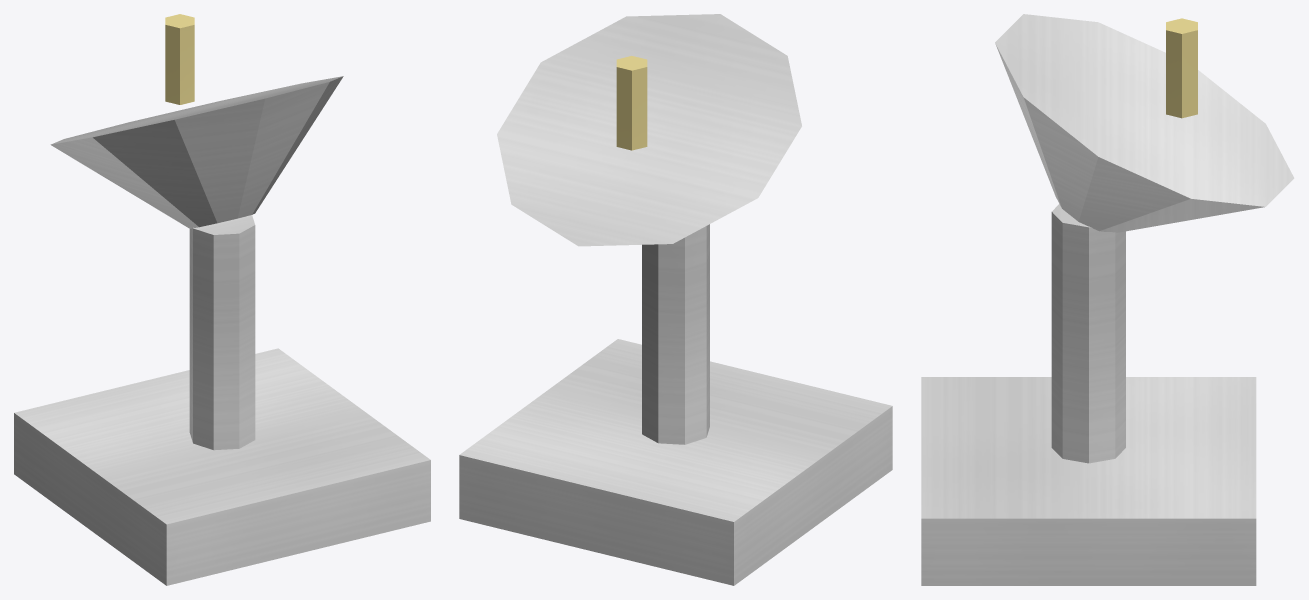
File: ship_sensor.obj
The picture shows the model from 3 angles, left to right: view 1: azimuth 30°, elevation 25°; view 2: azimuth 150°, elevation 25°; view 3: azimuth 270°, elevation 25°; orthographic projection. The views are drawn at different scales.
Visible parts, largest first — view 1: ship_sensor; view 2: ship_sensor; view 3: ship_sensor.
Part boxes in pixels (x1,y1,x2,y2): ship_sensor: [14, 14, 430, 585]; ship_sensor: [459, 14, 892, 585]; ship_sensor: [921, 14, 1294, 585].
Size of the model in its own units: 0.9 by 1.45 by 1.
